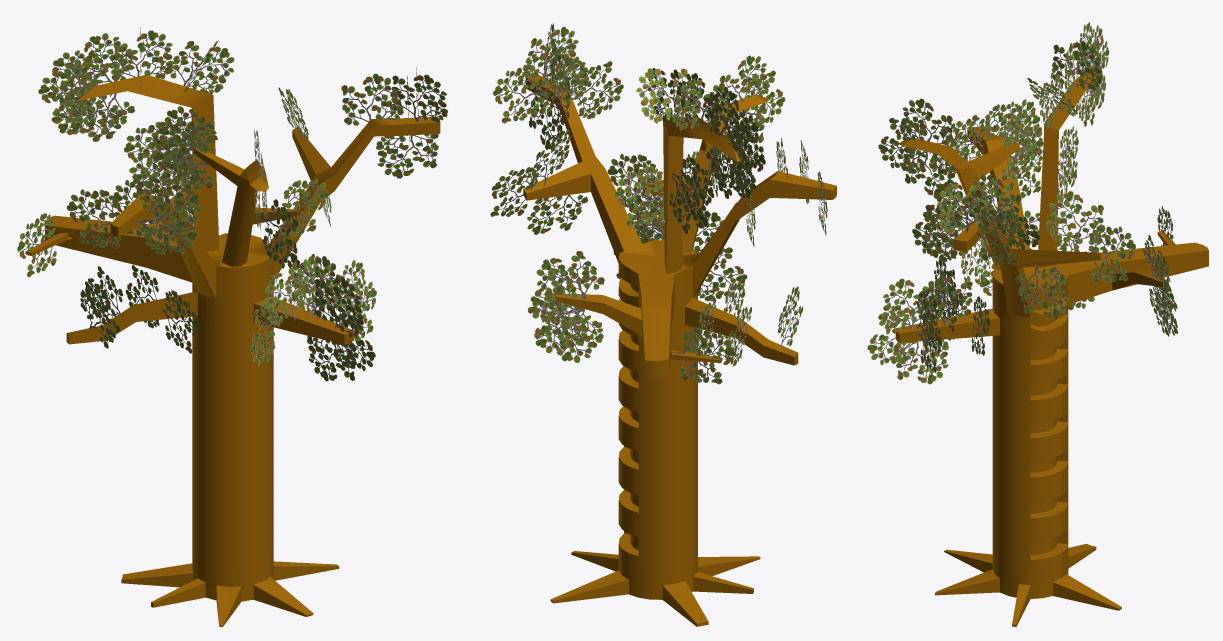
The model's file is Tree climable.fbx.
3 renders of one model, left to right at view 1: azimuth 30°, elevation 25°; view 2: azimuth 150°, elevation 25°; view 3: azimuth 270°, elevation 25°, orthographic. The views are drawn at different scales.
Visible parts, largest first — view 1: Tree, pPlane42, pPlane35, pPlane40, pPlane22, pPlane46, pPlane34, pPlane47, pPlane38, pPlane44, pPlane45, pPlane43 (+24 smaller); view 2: Tree, pPlane26, pPlane12, pPlane23, pPlane25, pPlane3, pPlane49, pPlane27, pPlane16, pPlane15, pPlane48, pPlane2 (+19 smaller); view 3: Tree, pPlane10, pPlane9, pPlane11, pPlane3, pPlane17, pPlane1, pPlane48, pPlane53, pPlane50, pPlane51, pPlane21 (+26 smaller).
Boxes of the visible parts, x1,y1,x2,y2 form: Tree: [25, 74, 440, 626]; pPlane42: [136, 195, 197, 254]; pPlane35: [165, 41, 234, 94]; pPlane40: [66, 189, 120, 249]; pPlane22: [153, 133, 213, 190]; pPlane46: [341, 73, 403, 125]; pPlane34: [65, 83, 134, 139]; pPlane47: [376, 134, 438, 178]; pPlane38: [47, 50, 108, 112]; pPlane44: [111, 30, 173, 81]; pPlane45: [390, 74, 447, 123]; pPlane43: [136, 172, 201, 234]; Tree: [523, 75, 836, 626]; pPlane26: [527, 288, 589, 353]; pPlane12: [614, 166, 664, 226]; pPlane23: [672, 327, 735, 384]; pPlane25: [536, 251, 604, 310]; pPlane3: [493, 64, 542, 123]; pPlane49: [636, 68, 701, 123]; pPlane27: [539, 301, 603, 363]; pPlane16: [537, 56, 589, 114]; pPlane15: [572, 61, 623, 119]; pPlane48: [672, 78, 725, 130]; pPlane2: [524, 26, 578, 78]; Tree: [895, 72, 1208, 626]; pPlane10: [1046, 191, 1103, 251]; pPlane9: [1088, 225, 1135, 282]; pPlane11: [1015, 264, 1069, 318]; pPlane3: [977, 209, 1026, 265]; pPlane17: [878, 117, 926, 173]; pPlane1: [912, 204, 961, 261]; pPlane48: [1052, 41, 1102, 91]; pPlane53: [894, 339, 948, 384]; pPlane50: [881, 278, 935, 328]; pPlane51: [918, 275, 972, 325]; pPlane21: [998, 99, 1041, 160].
Bounding box in the file's own units: 52 × 81.03 × 48.17.
